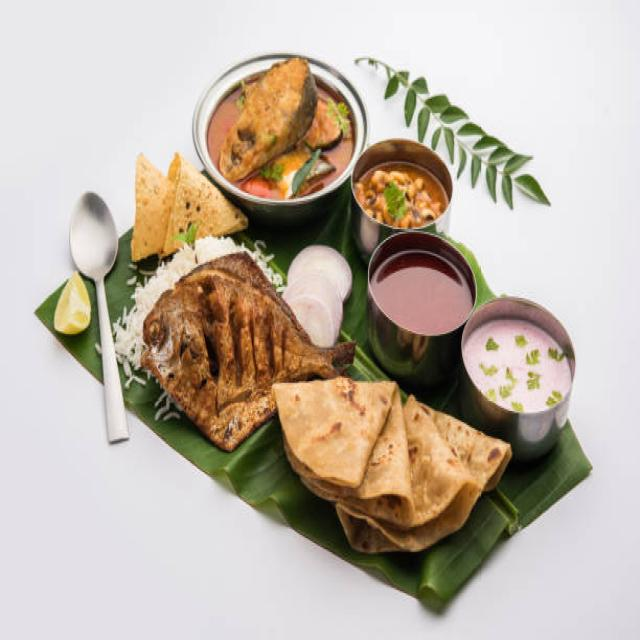CHAPATHI: (271, 374, 516, 555)
CURD: (462, 313, 572, 410)
FISH CURRY: (208, 55, 355, 197)
FISH FRY: (139, 251, 355, 444)
KURMA: (358, 155, 447, 229)
PAPADAM: (133, 152, 250, 259)
RICE: (113, 234, 279, 387)
SWEET: (372, 244, 470, 332)
